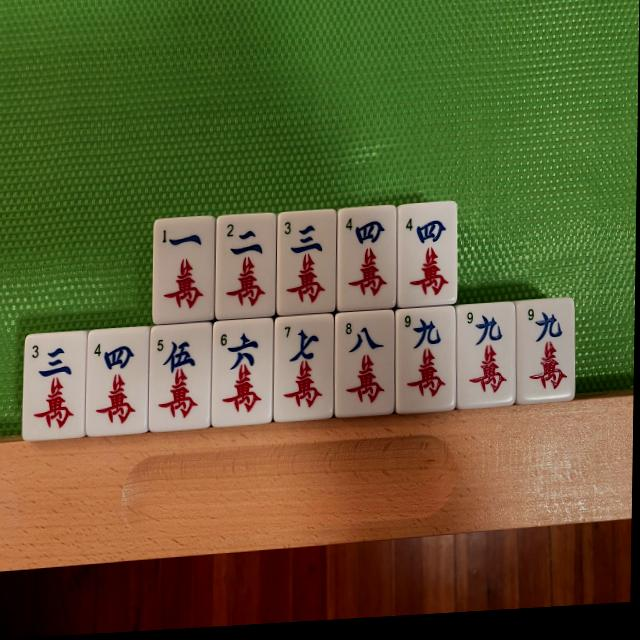1C: (153, 216, 214, 323)
2C: (214, 213, 276, 318)
3C: (275, 210, 337, 315), (24, 332, 85, 438)
4C: (87, 328, 149, 434), (397, 202, 458, 307), (336, 206, 397, 310)
5C: (149, 321, 212, 431)
6C: (212, 316, 274, 425)
7C: (273, 313, 335, 421)
8C: (334, 309, 396, 418)
9C: (395, 305, 458, 414), (514, 298, 575, 403), (457, 302, 516, 408)
